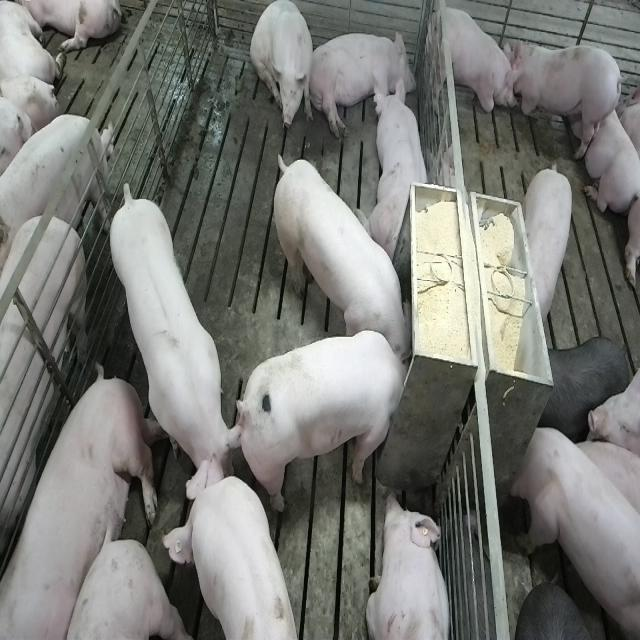Feeding: (243, 329, 419, 515), (269, 145, 411, 361)
Lateral_lying: (3, 366, 158, 640), (308, 26, 418, 139)
Sitting: (251, 2, 315, 138)
Standing: (108, 183, 245, 514), (0, 203, 90, 604), (508, 419, 638, 636), (164, 472, 303, 640), (0, 109, 111, 257), (539, 332, 632, 441), (523, 160, 577, 324)
Sternal_lying: (509, 32, 624, 155), (360, 76, 432, 259), (366, 490, 453, 640), (578, 86, 638, 212)
